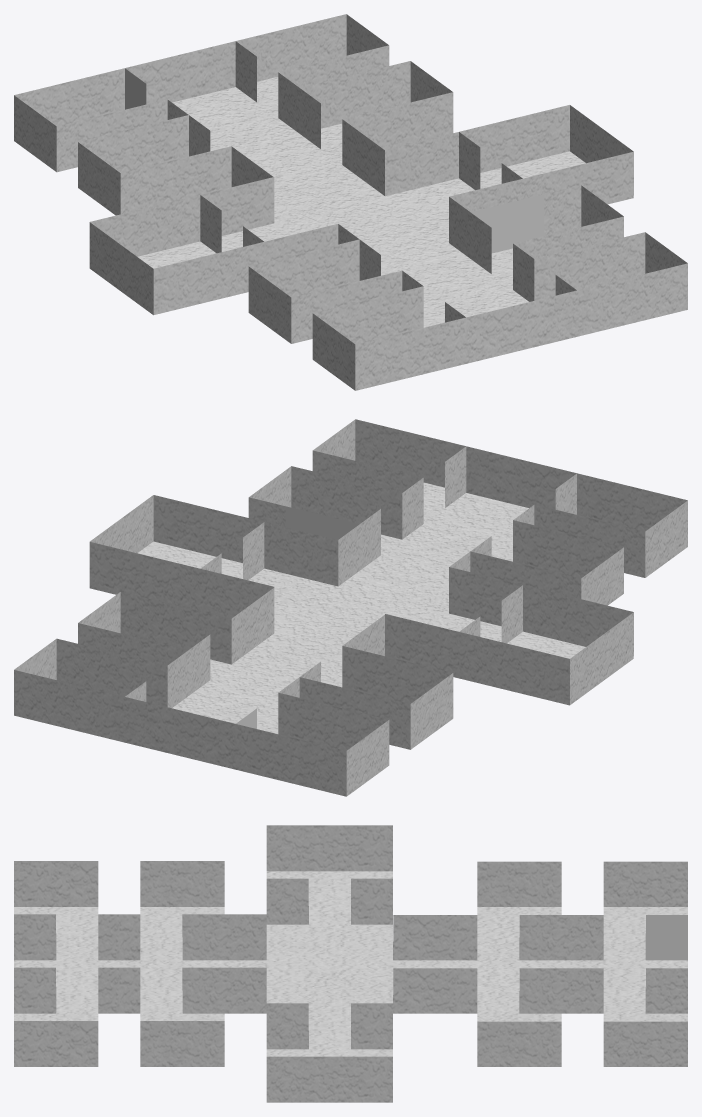
Rendered from 3dimgur_textures.obj.
3 renders of one model, top to bottom at view 1: azimuth 30°, elevation 25°; view 2: azimuth 150°, elevation 25°; view 3: azimuth 270°, elevation 25°, orthographic.
Parts seen in each view (by area): view 1: Plane_Plane_walls, Plane_Plane_floor; view 2: Plane_Plane_walls, Plane_Plane_floor; view 3: Plane_Plane_walls, Plane_Plane_floor.
Part boxes in pixels (box(x1,y1,x2,y2)): Plane_Plane_walls: box(14, 14, 687, 390); Plane_Plane_floor: box(137, 77, 585, 327); Plane_Plane_walls: box(14, 419, 687, 796); Plane_Plane_floor: box(138, 482, 585, 733); Plane_Plane_walls: box(14, 825, 687, 1102); Plane_Plane_floor: box(14, 871, 687, 1056).
Bounding box in the file's own units: 12.77 × 1.18 × 15.72.
